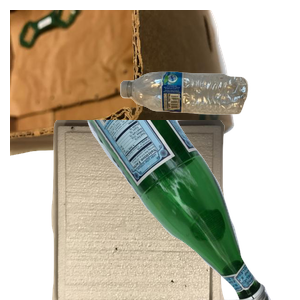cardboard: (10, 10, 237, 158)
glass: (75, 120, 300, 300)
plastic: (118, 69, 300, 176)
trash: (49, 120, 269, 300)
